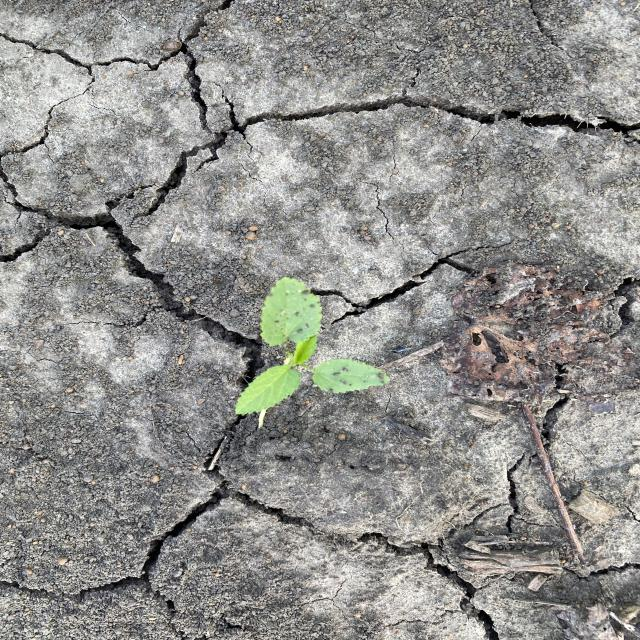PricklySida: (234, 275, 392, 417)
